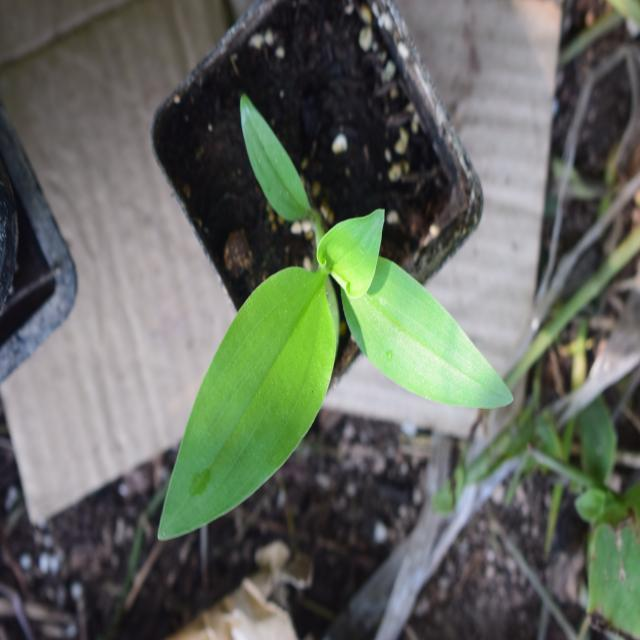Common Dayflower: (128, 116, 511, 499)
